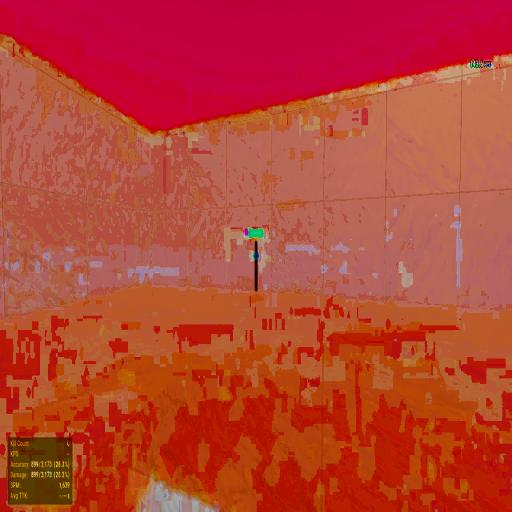Crosshair: (254, 252, 258, 261)
Target: (254, 238, 258, 292)
